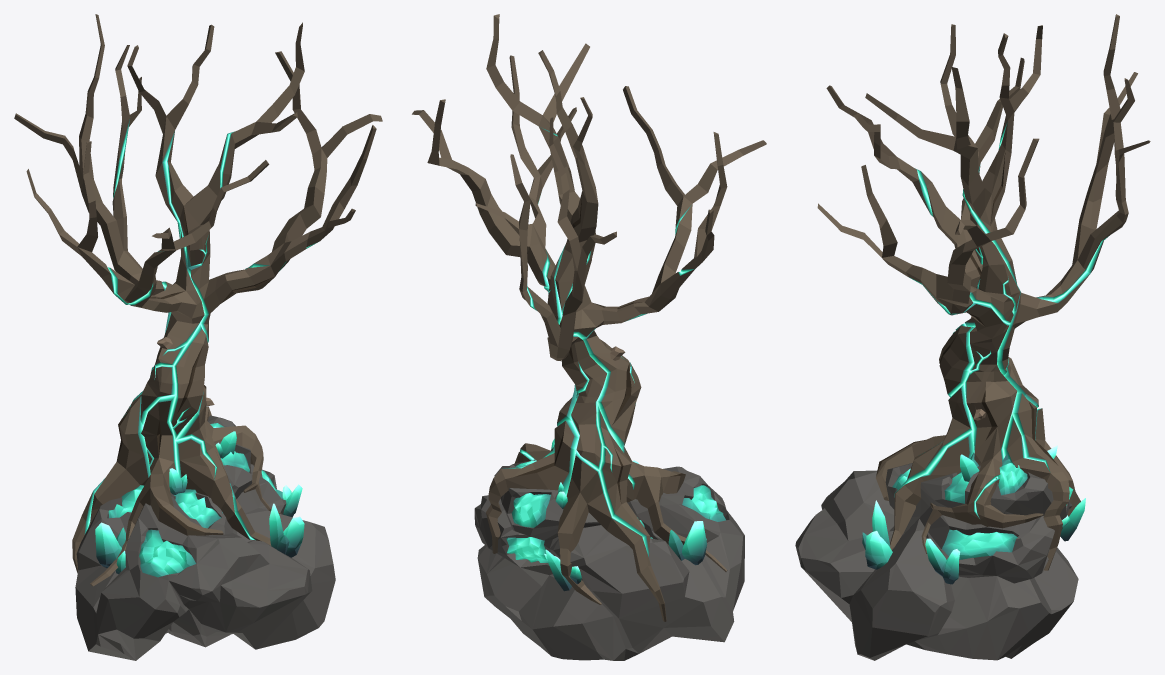
The model's file is el_bld_temple.gltf.
3 renders of one model, left to right at view 1: azimuth 30°, elevation 25°; view 2: azimuth 150°, elevation 25°; view 3: azimuth 270°, elevation 25°, orthographic. The views are drawn at different scales.
Parts seen in each view (by area): view 1: el_bld_temple; view 2: el_bld_temple; view 3: el_bld_temple.
Part boxes in pixels (x1,y1,x2,y2): el_bld_temple: (14,14,382,660); el_bld_temple: (412,14,766,660); el_bld_temple: (795,14,1150,660).
Bounding box in the file's own units: 7.96 × 13.47 × 7.01.
1 material, 1 textured.
